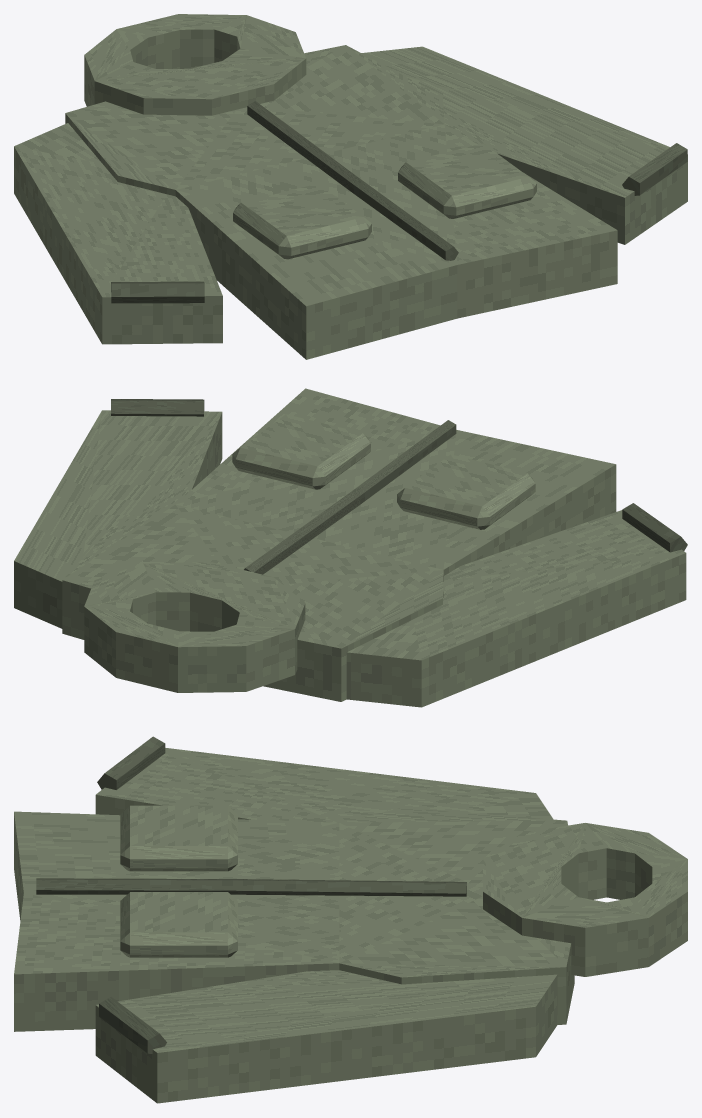
File: winter_jacket_army.glb
The picture shows the model from 3 angles, top to bottom: view 1: azimuth 30°, elevation 25°; view 2: azimuth 150°, elevation 25°; view 3: azimuth 270°, elevation 25°; orthographic projection. The views are drawn at different scales.
Parts seen in each view (by area): view 1: block_garment body, block_sleeve (×2), block_folded fabric hood, block_raised front pocket (×2), block_cuff 0 (×2), block_front closure 1, block_front closure 0; view 2: block_garment body, block_sleeve (×2), block_folded fabric hood, block_raised front pocket (×2), block_cuff 0 (×2), block_front closure 0, block_front closure 1; view 3: block_garment body, block_sleeve (×2), block_folded fabric hood, block_raised front pocket (×2), block_front closure 0, block_cuff 0 (×2), block_front closure 1.
Part boxes in pixels (x1=…): block_garment body: x1=65, y1=45, x2=617, y2=359; block_sleeve (×2): x1=14, y1=46, x2=687, y2=344; block_folded fabric hood: x1=84, y1=14, x2=306, y2=115; block_raised front pocket (×2): x1=233, y1=143, x2=536, y2=259; block_cuff 0 (×2): x1=111, y1=143, x2=687, y2=303; block_front closure 1: x1=349, y1=177, x2=458, y2=260; block_front closure 0: x1=247, y1=101, x2=356, y2=189; block_garment body: x1=62, y1=388, x2=616, y2=701; block_sleeve (×2): x1=14, y1=410, x2=686, y2=707; block_folded fabric hood: x1=84, y1=562, x2=305, y2=692; block_raised front pocket (×2): x1=232, y1=414, x2=535, y2=529; block_cuff 0 (×2): x1=111, y1=399, x2=687, y2=552; block_front closure 0: x1=244, y1=491, x2=360, y2=574; block_front closure 1: x1=352, y1=420, x2=456, y2=504; block_garment body: x1=14, y1=807, x2=574, y2=1031; block_sleeve (×2): x1=95, y1=748, x2=557, y2=1103; block_folded fabric hood: x1=483, y1=823, x2=687, y2=976; block_raised front pocket (×2): x1=120, y1=805, x2=237, y2=957; block_front closure 0: x1=242, y1=879, x2=466, y2=896; block_cuff 0 (×2): x1=97, y1=736, x2=166, y2=1053; block_front closure 1: x1=36, y1=878, x2=242, y2=894.
Bounding box in the file's own units: 0.6764 × 0.0838 × 0.6292.
1 material, 1 textured.
